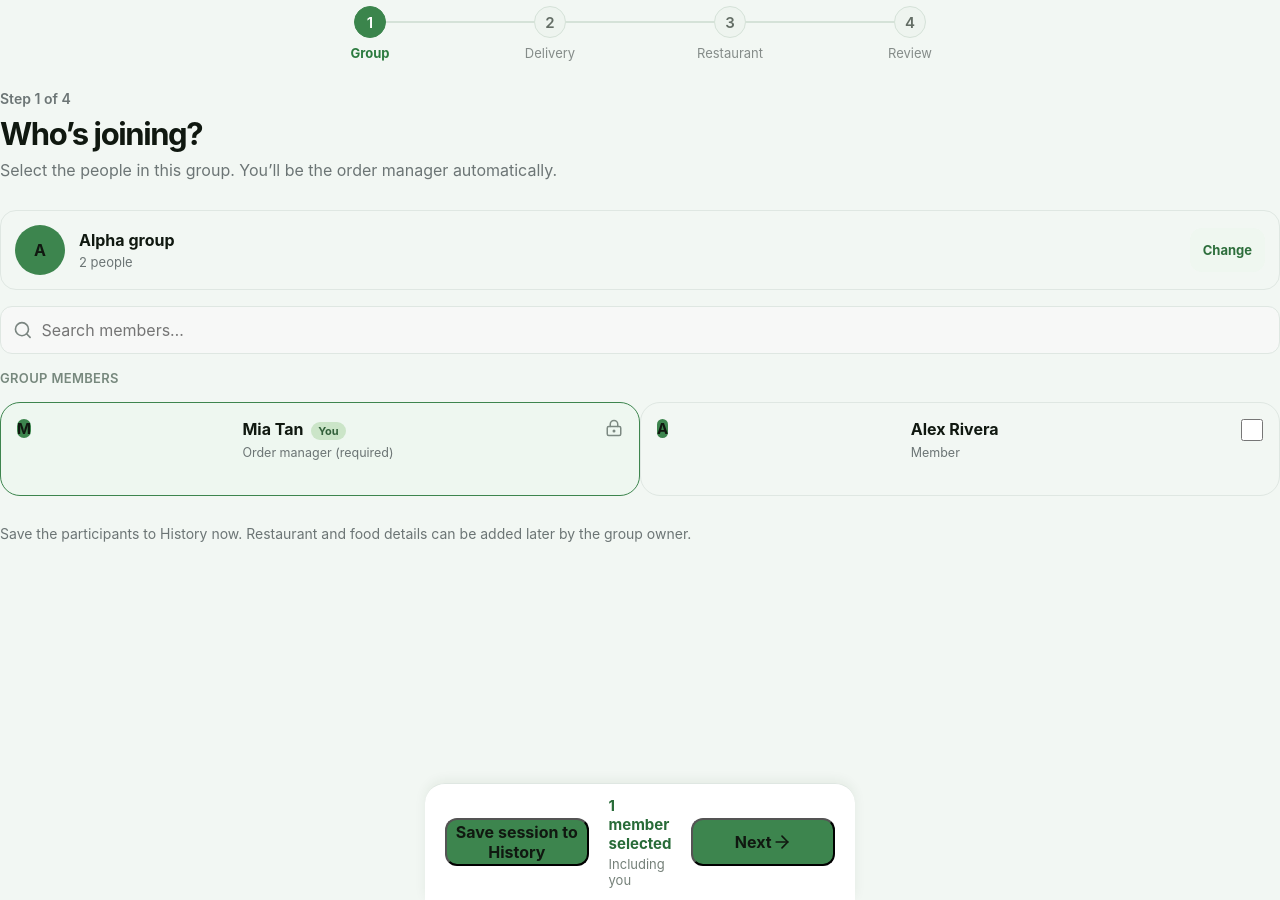
Test: NewOrderWizard › keeps selections when moving back and searches members without losing them
Click the checkbox labelled "A Alex Rivera Member". click: click(1252, 430)
box: [1241, 419, 1263, 441]
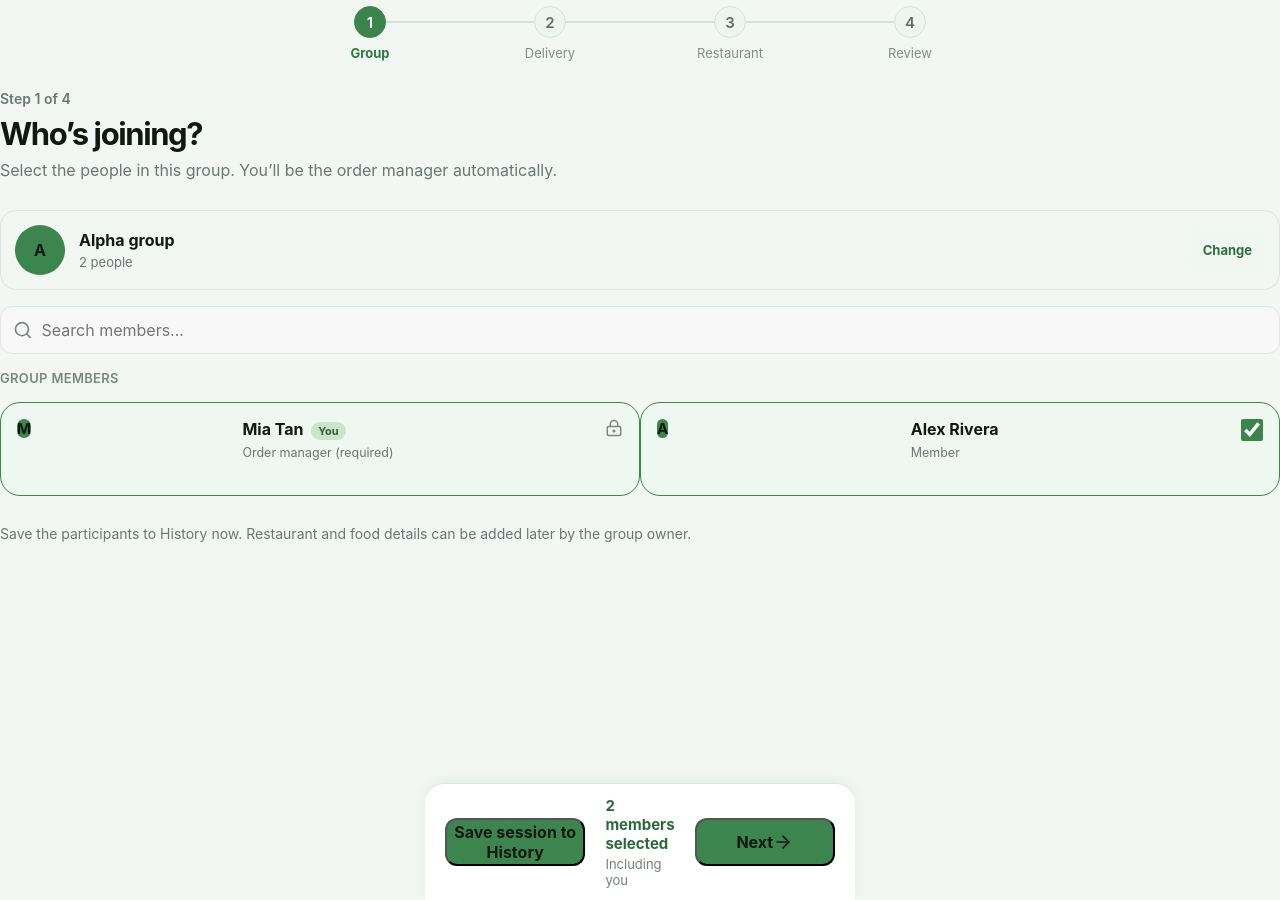
Type "Mia" into the search field. click: (654, 330)
box: [42, 315, 1267, 345]
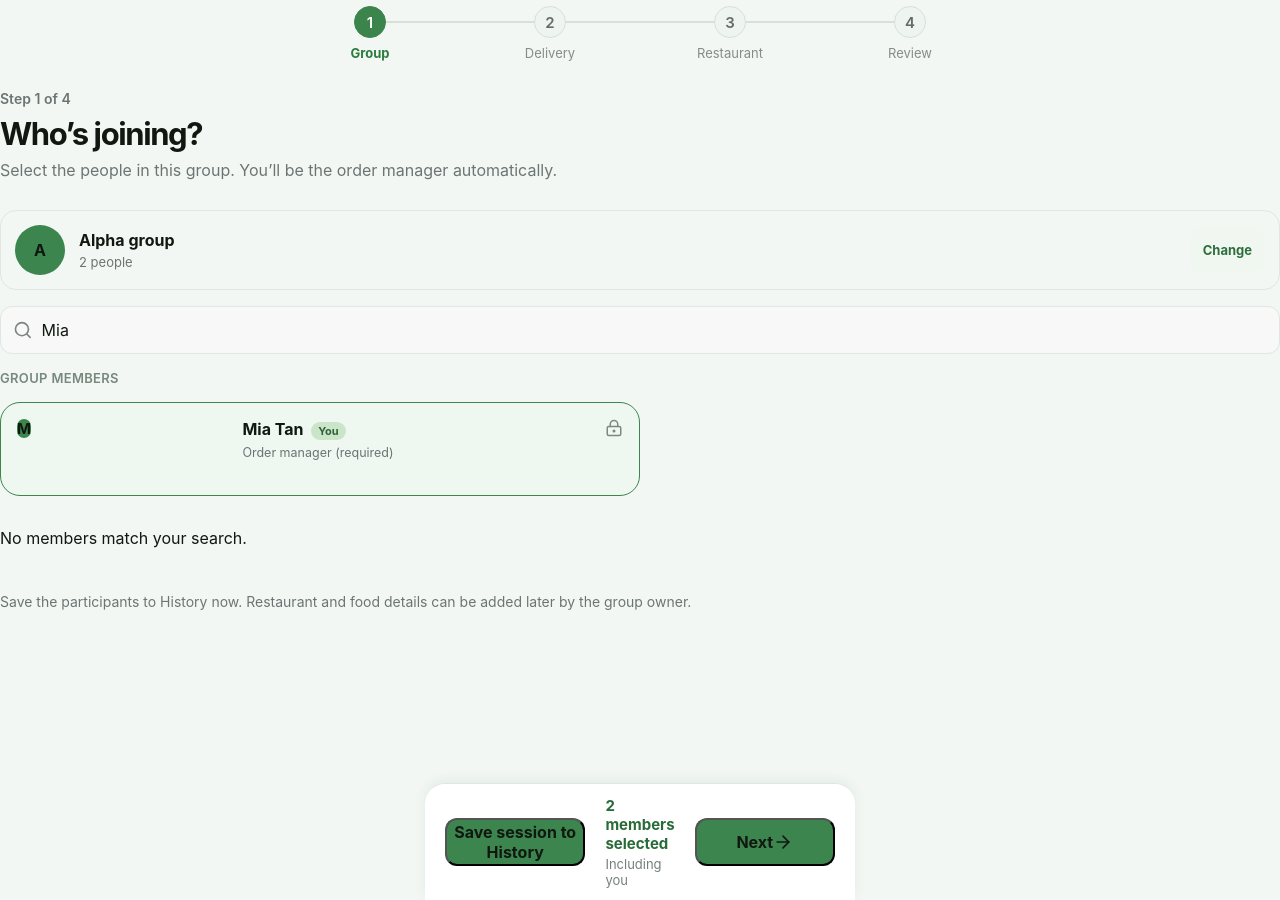
Now the text "2 members selected" is shown, box [605, 796, 675, 853]
Now the text "Alex Rivera" is gone
Click the button "Next". click: click(765, 842)
box: [695, 818, 835, 866]
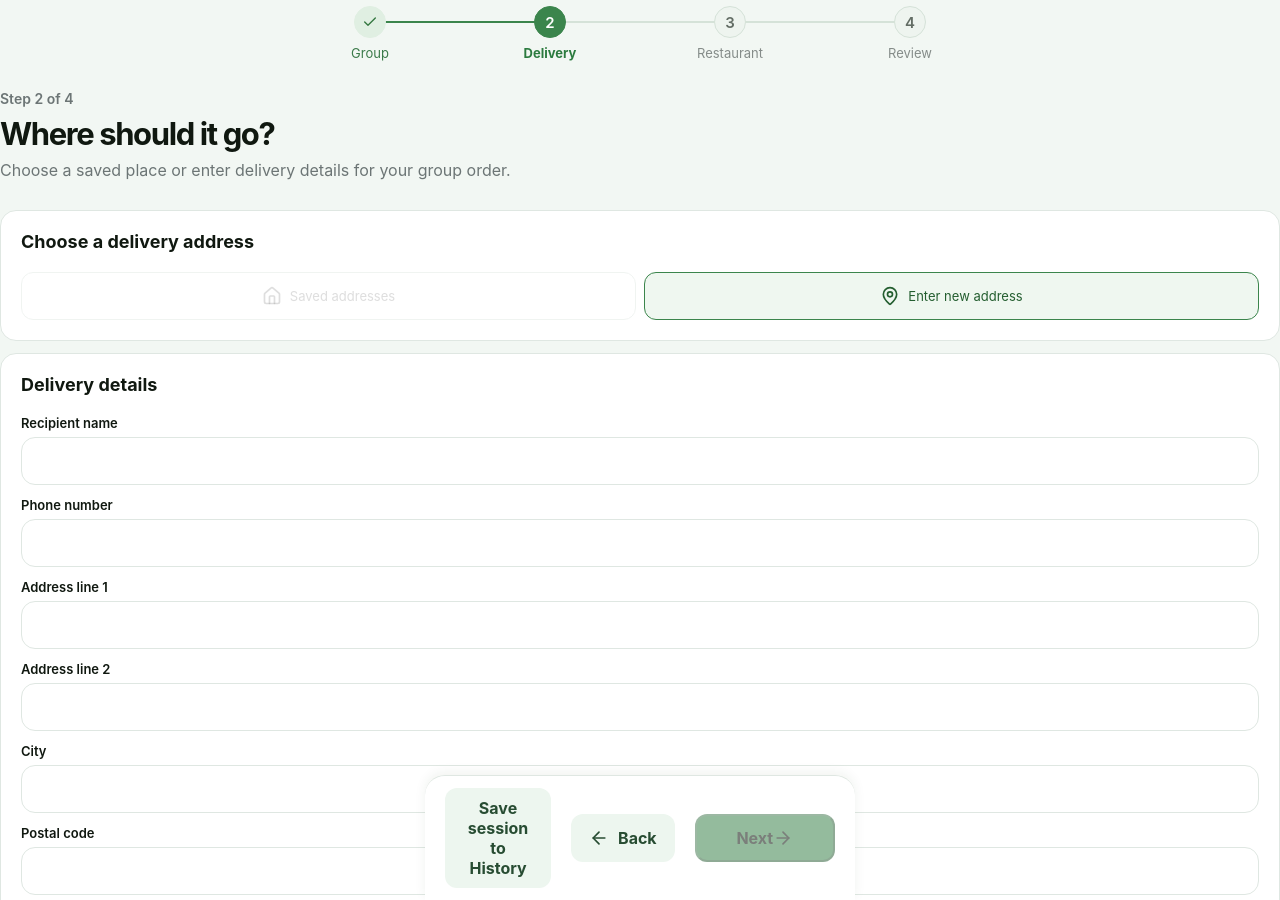
Now the heading "Where should it go?" is shown, box [0, 115, 274, 152]
Click the button "Back". click: click(623, 838)
box: [571, 814, 675, 862]
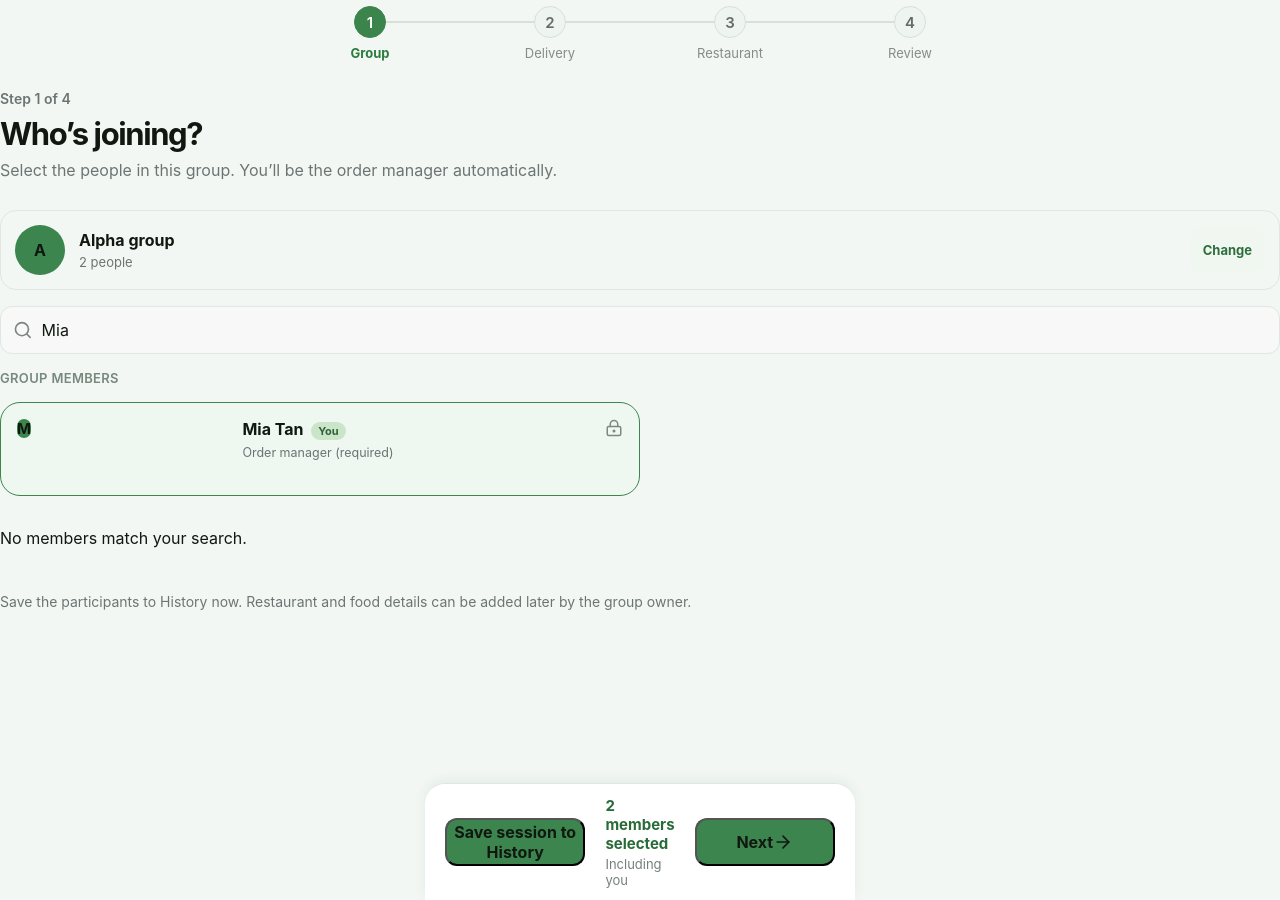
Clear the search field. click: (654, 330)
box: [42, 315, 1267, 345]
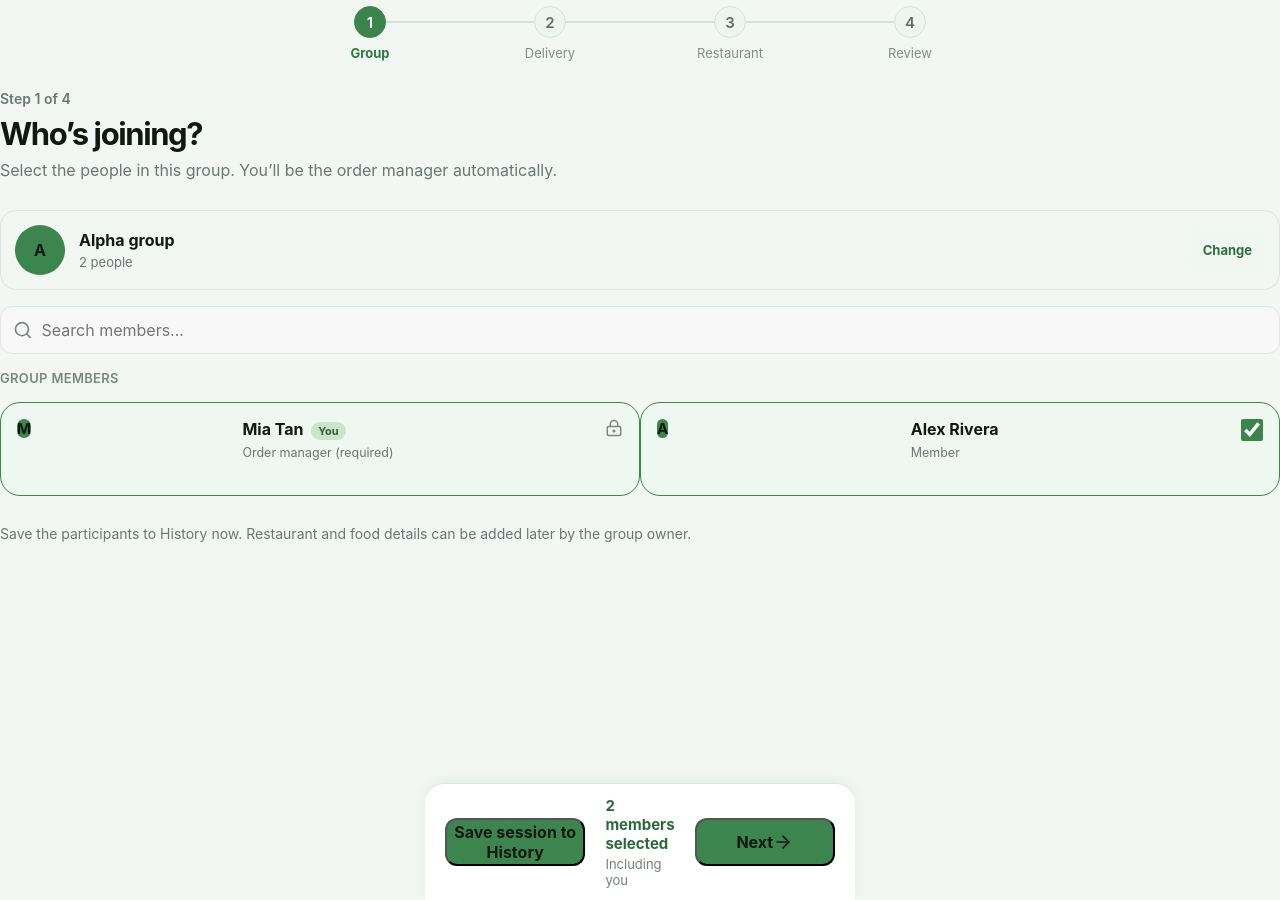
Now the checkbox labelled "A Alex Rivera Member" is checked, box [1241, 419, 1263, 441]
